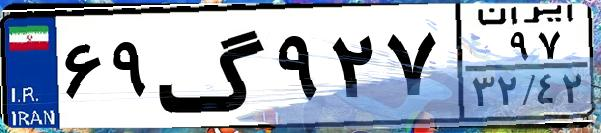2: (330, 28, 385, 110), (560, 70, 590, 125), (495, 70, 520, 125)
3: (470, 70, 495, 125)
4: (535, 70, 560, 125)
6: (57, 26, 110, 100)
7: (385, 28, 445, 110), (537, 27, 568, 80)
9: (270, 28, 330, 110), (110, 28, 156, 98), (508, 27, 537, 80)
گ: (156, 12, 270, 120)
